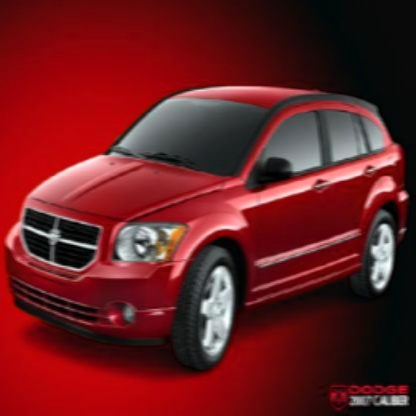Vehicle: (6, 72, 413, 382)
